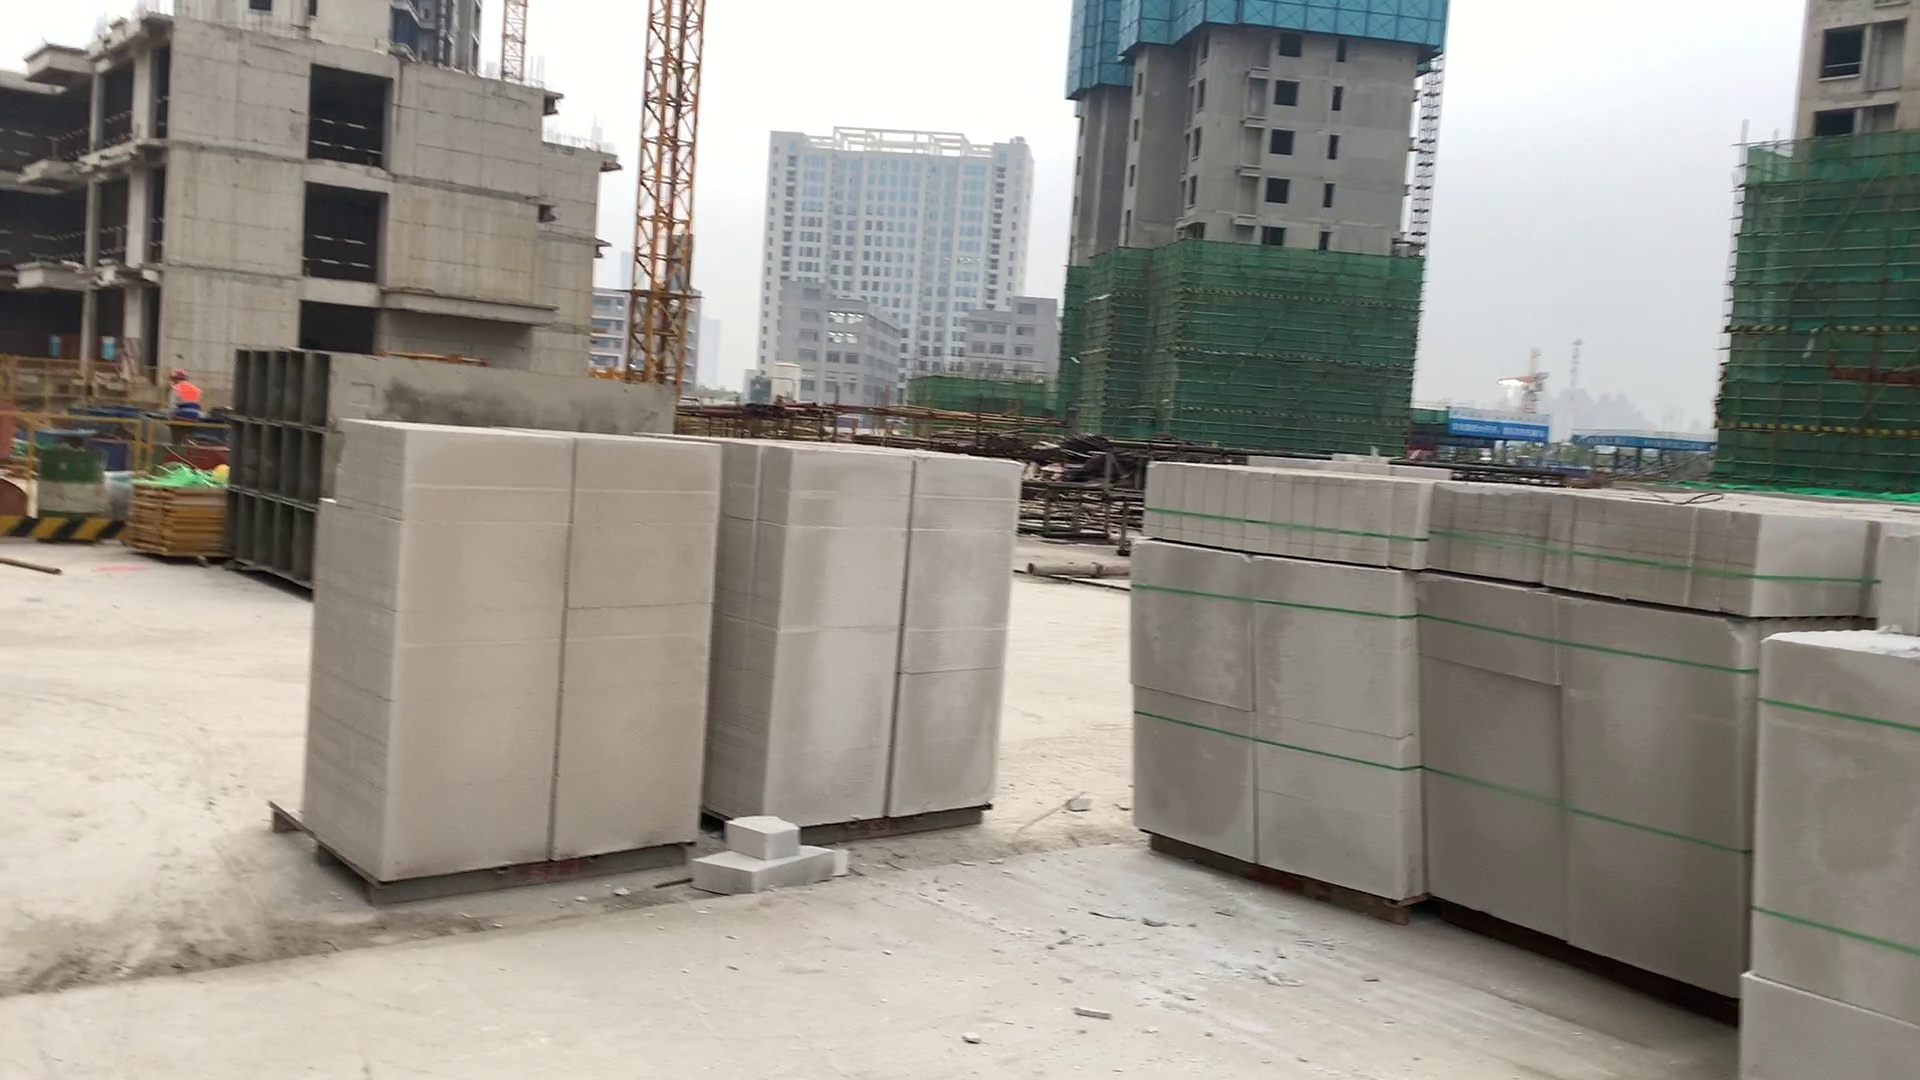brickwork: (322, 418, 716, 877), (1419, 480, 1756, 1002), (1122, 448, 1424, 911), (733, 440, 1022, 829), (1745, 531, 1919, 1080)
